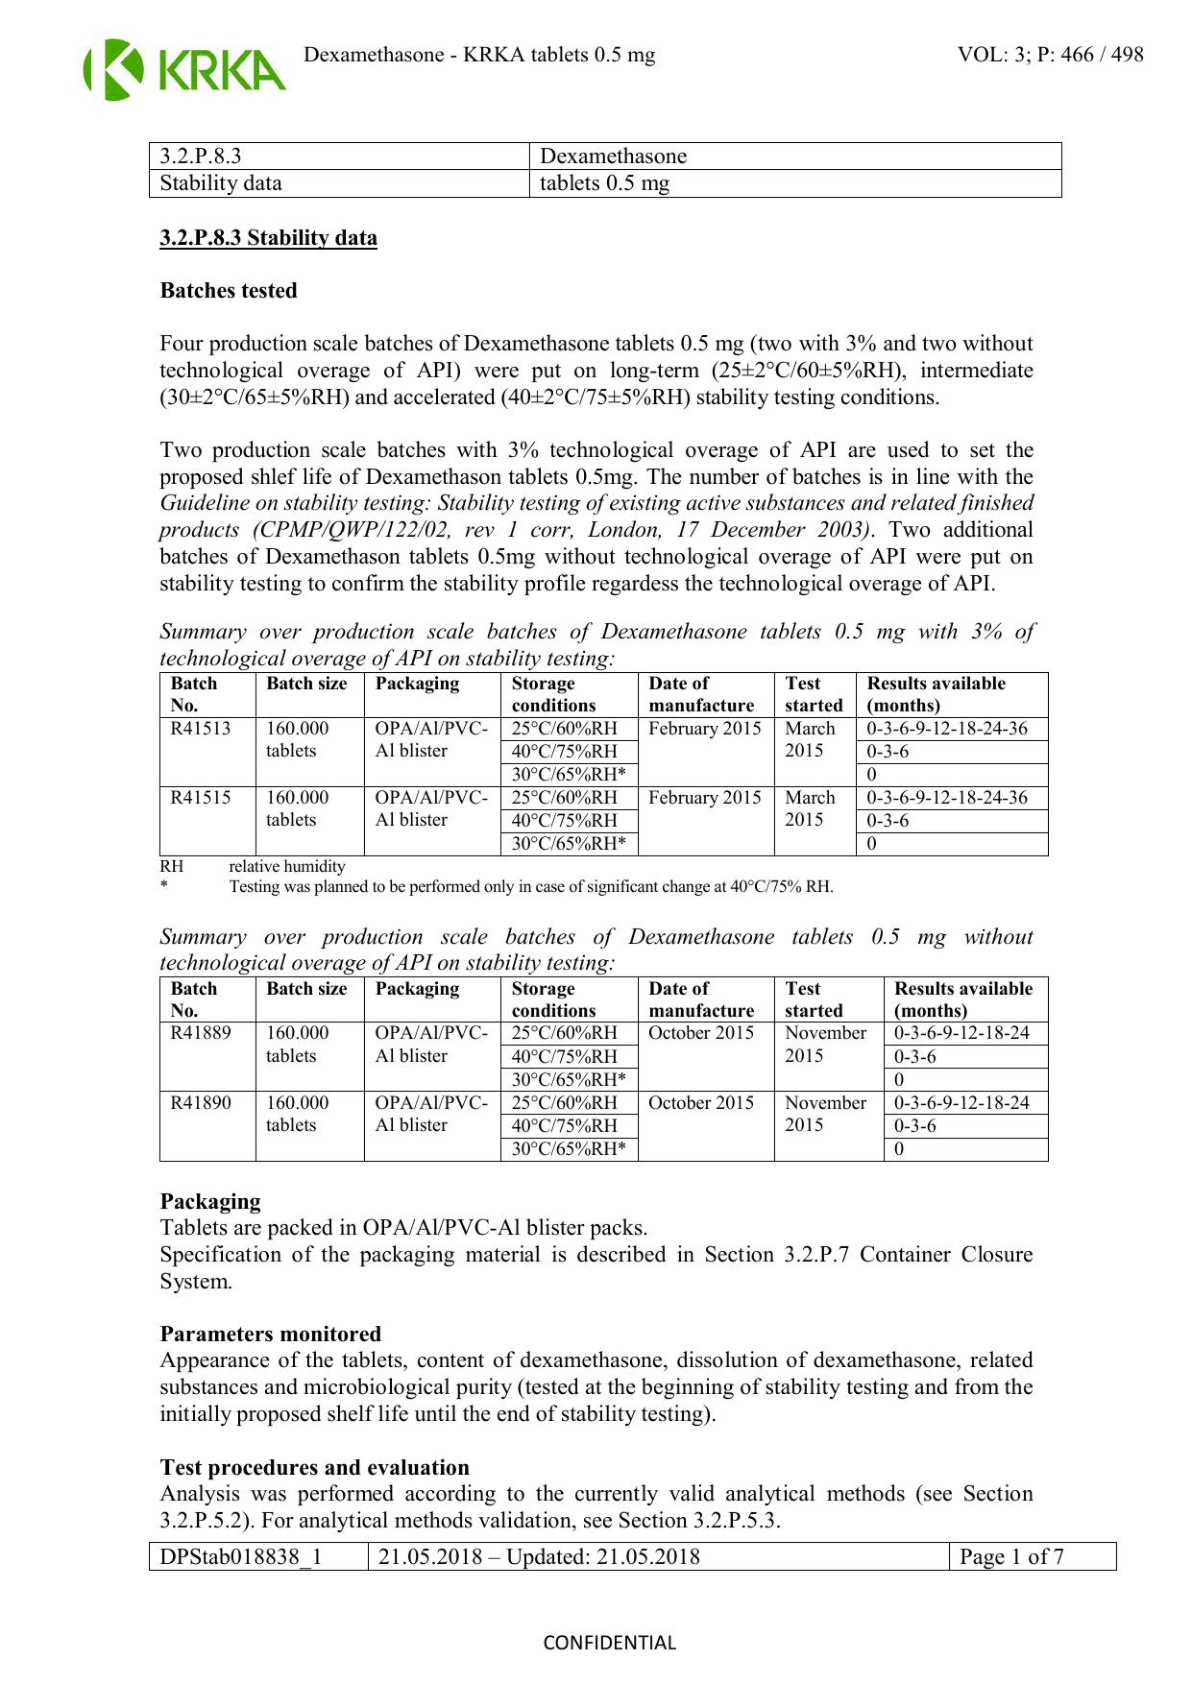full_lined: (147, 141, 1063, 199), (147, 1541, 1117, 1571)
merged_cells: (157, 976, 1049, 1163), (157, 672, 1050, 857)
